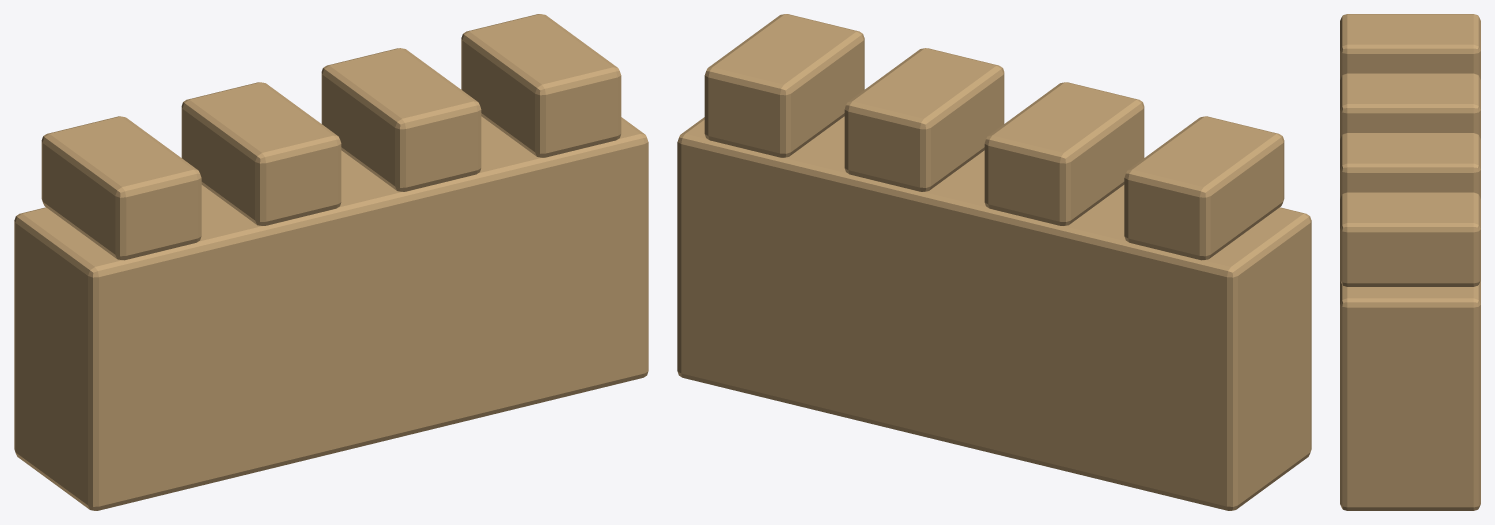
File: sandcastle-wall.glb
The picture shows the model from 3 angles, left to right: view 1: azimuth 30°, elevation 25°; view 2: azimuth 150°, elevation 25°; view 3: azimuth 270°, elevation 25°; orthographic projection. The views are drawn at different scales.
Visible parts, largest first — view 1: Curtain wall, Wall crenellation, Wall crenellation.002, Wall crenellation.003, Wall crenellation.001; view 2: Curtain wall, Wall crenellation, Wall crenellation.002, Wall crenellation.003, Wall crenellation.001; view 3: Curtain wall, Wall crenellation.003, Wall crenellation, Wall crenellation.002, Wall crenellation.001.
Part boxes in pixels (box(x1,y1,x2,y2)): Curtain wall: box(14, 116, 648, 510); Wall crenellation: box(41, 116, 201, 260); Wall crenellation.002: box(321, 48, 481, 191); Wall crenellation.003: box(461, 14, 621, 157); Wall crenellation.001: box(181, 82, 341, 225); Curtain wall: box(677, 116, 1311, 510); Wall crenellation: box(1124, 116, 1284, 260); Wall crenellation.002: box(844, 48, 1004, 191); Wall crenellation.003: box(704, 14, 864, 157); Wall crenellation.001: box(984, 82, 1144, 225); Curtain wall: box(1340, 280, 1480, 510); Wall crenellation.003: box(1340, 192, 1480, 286); Wall crenellation: box(1340, 14, 1480, 79); Wall crenellation.002: box(1340, 133, 1480, 198); Wall crenellation.001: box(1340, 73, 1480, 139).
Bounding box in the file's own units: 0.72 × 0.39 × 0.18.
